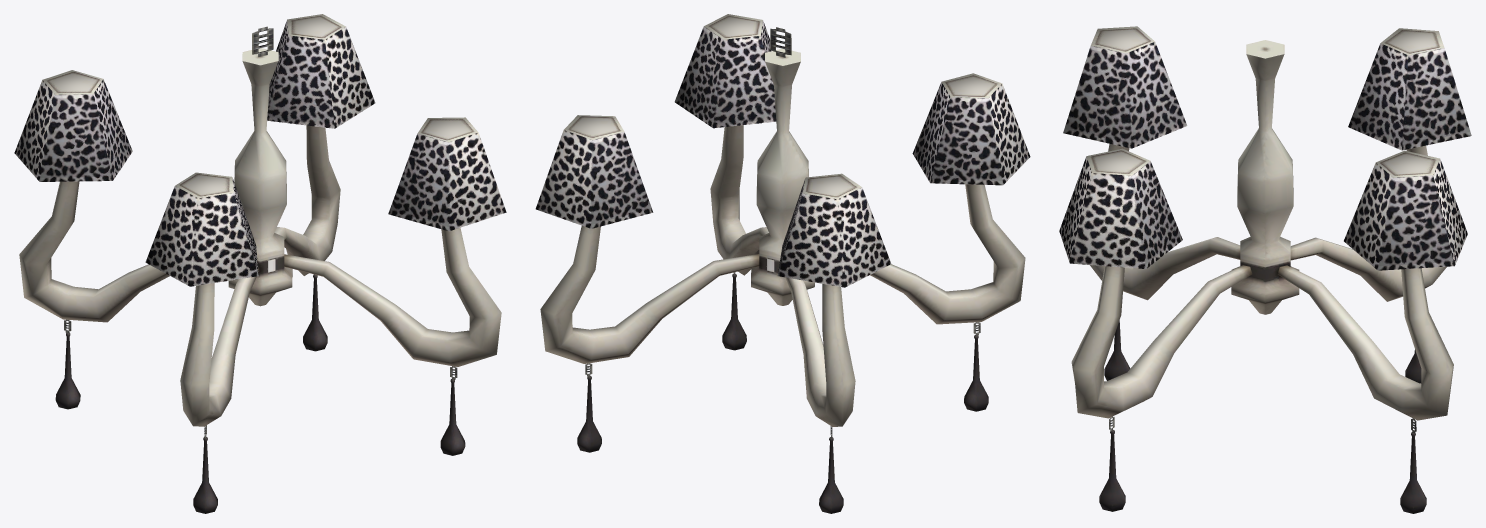
The model's file is furni_0200082.FBX.
3 views of the same model, side by side, from view 1: azimuth 30°, elevation 25°; view 2: azimuth 150°, elevation 25°; view 3: azimuth 270°, elevation 25° (orthographic). The views are drawn at different scales.
Parts seen in each view (by area): view 1: furni_0200082; view 2: furni_0200082; view 3: furni_0200082.
Boxes of the visible parts, left/top/right/bottom form: furni_0200082: left=14, top=14, right=506, bottom=513; furni_0200082: left=535, top=14, right=1030, bottom=513; furni_0200082: left=1059, top=26, right=1471, bottom=513.
Size of the model in its own units: 71.72 by 82.49 by 71.72.
